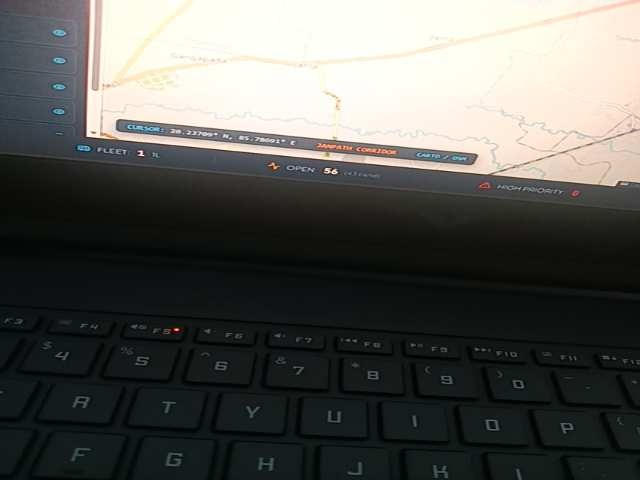pothole: (104, 403, 312, 480), (536, 403, 640, 480)
